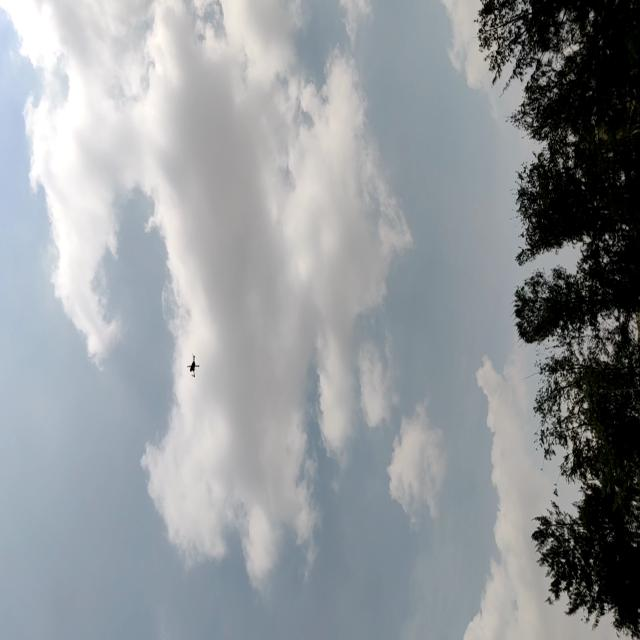drone: (185, 344, 202, 384)
